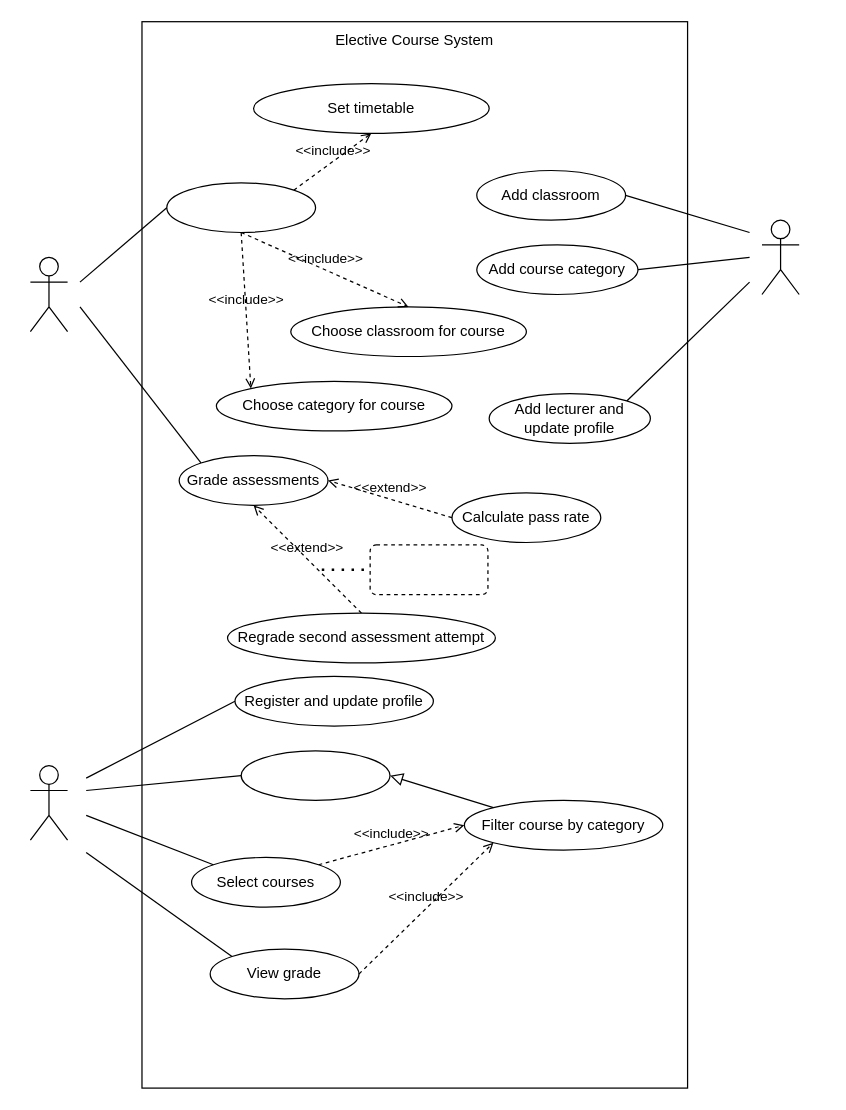
Some shapes in this 846 by 1110 pixel diagram are drawn without their labels. Here are the shapes that lost their labels. From the top down, the box of each, then its label:
(166, 182, 316, 232): Create course
(761, 219, 799, 294): Administrator
(29, 256, 68, 332): Lecturer
(369, 544, 488, 595): Mark is below 50%
(240, 750, 390, 800): View courses
(29, 764, 68, 840): Student
